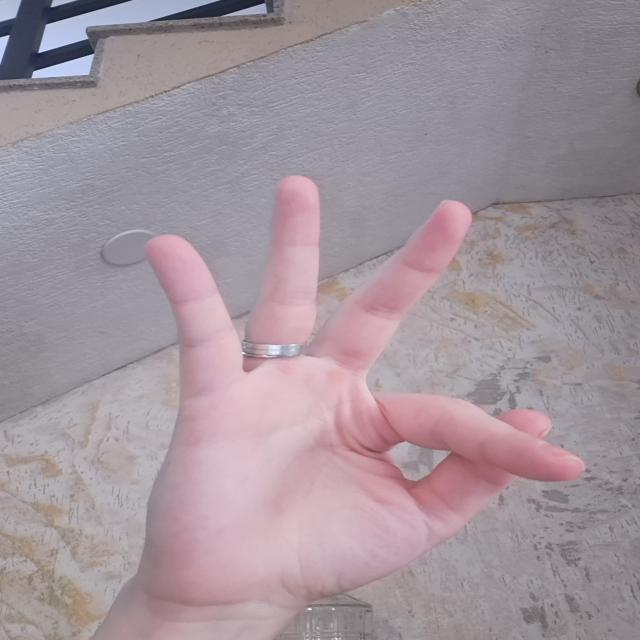F: (97, 165, 593, 592)
